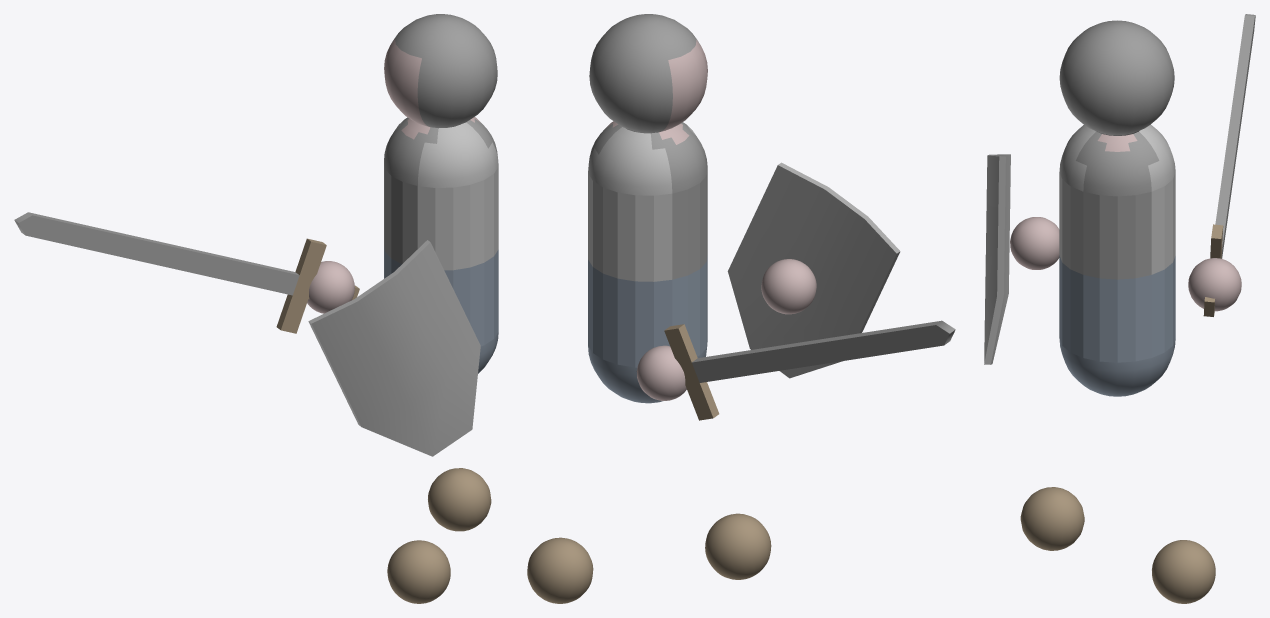
The model's file is rayman_guard_mesh_noAni.fbx.
3 views of the same model, side by side, from view 1: azimuth 30°, elevation 25°; view 2: azimuth 150°, elevation 25°; view 3: azimuth 270°, elevation 25° (orthographic). The views are drawn at different scales.
Visible parts, largest first — view 1: pCube2, polySurface5, polySurface4, pCube1, polySurface8, polySurface9, polySurface6; view 2: polySurface5, pCube2, polySurface4, pCube1, polySurface8, polySurface9, polySurface7, polySurface6; view 3: polySurface5, polySurface4, pCube2, pCube1, polySurface9, polySurface8, polySurface7, polySurface6.
Part boxes in pixels (<box>): pCube2: <box>308,240,480,456</box>; polySurface5: <box>384,117,498,373</box>; polySurface4: <box>384,14,497,127</box>; pCube1: <box>14,212,359,333</box>; polySurface8: <box>387,540,450,603</box>; polySurface9: <box>428,468,491,531</box>; polySurface6: <box>307,261,354,313</box>; polySurface5: <box>588,121,707,403</box>; pCube2: <box>727,162,900,378</box>; polySurface4: <box>589,14,707,132</box>; pCube1: <box>636,320,955,420</box>; polySurface8: <box>705,513,771,579</box>; polySurface9: <box>527,537,593,603</box>; polySurface7: <box>761,259,816,314</box>; polySurface6: <box>637,345,686,400</box>; polySurface5: <box>1059,124,1175,396</box>; polySurface4: <box>1059,20,1174,135</box>; pCube2: <box>984,154,1010,364</box>; pCube1: <box>1203,14,1255,316</box>; polySurface9: <box>1152,540,1215,603</box>; polySurface8: <box>1020,487,1084,550</box>; polySurface7: <box>1010,217,1059,269</box>; polySurface6: <box>1188,258,1241,311</box>.
Size of the model in its own units: 182 by 217 by 97.24.
